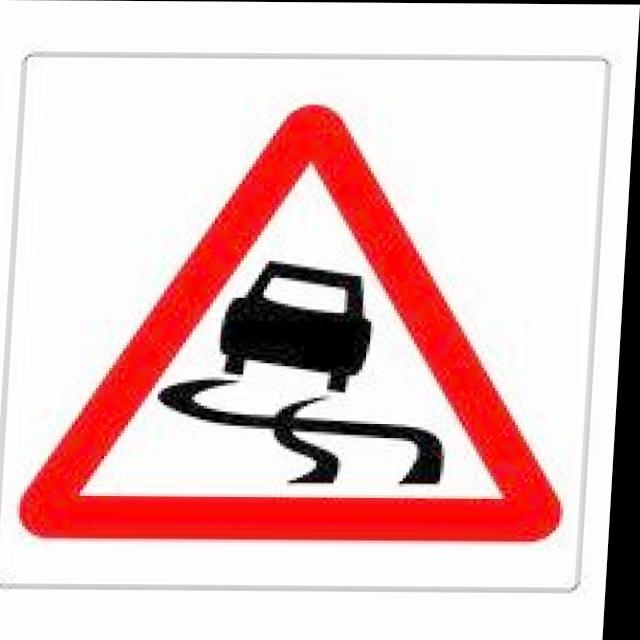SLIPPERY_ROAD: (19, 87, 585, 553)
